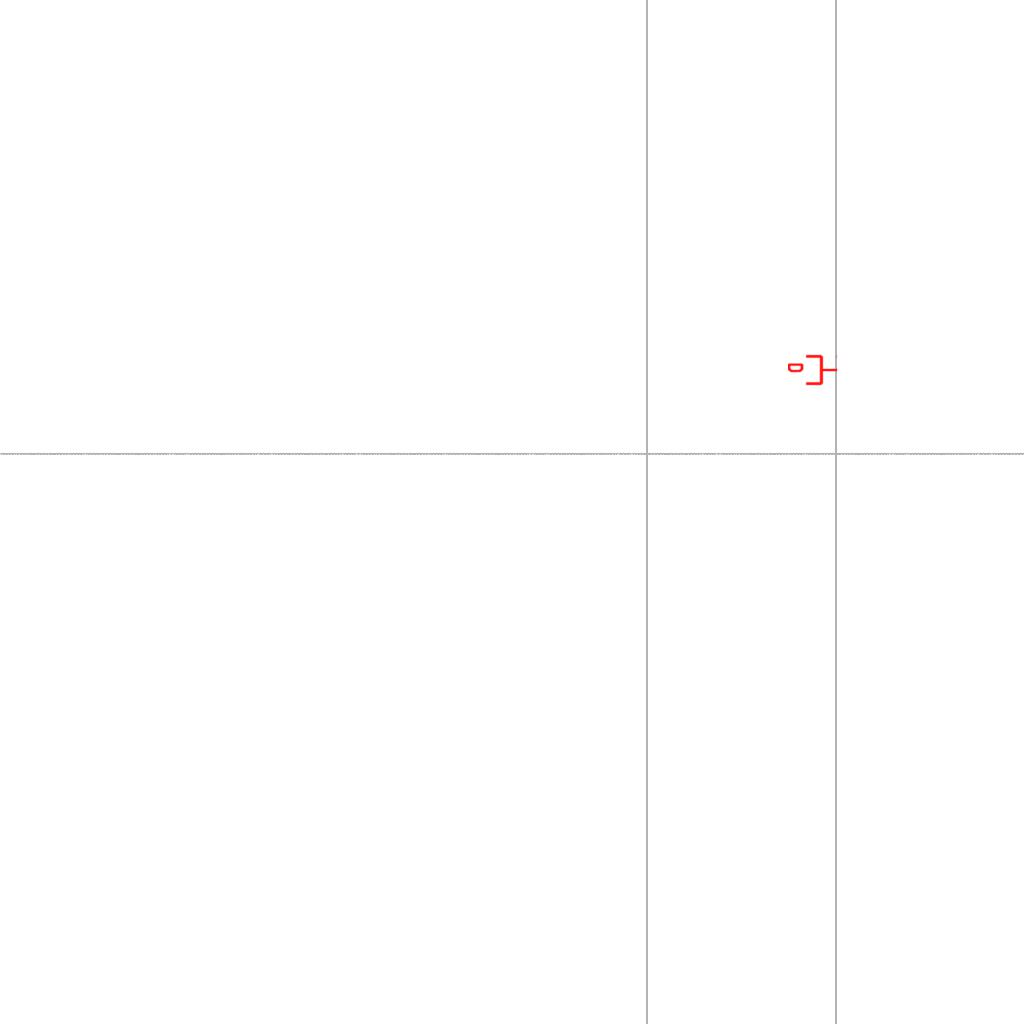Datenanschluss_einfach: (788, 353, 838, 387)
